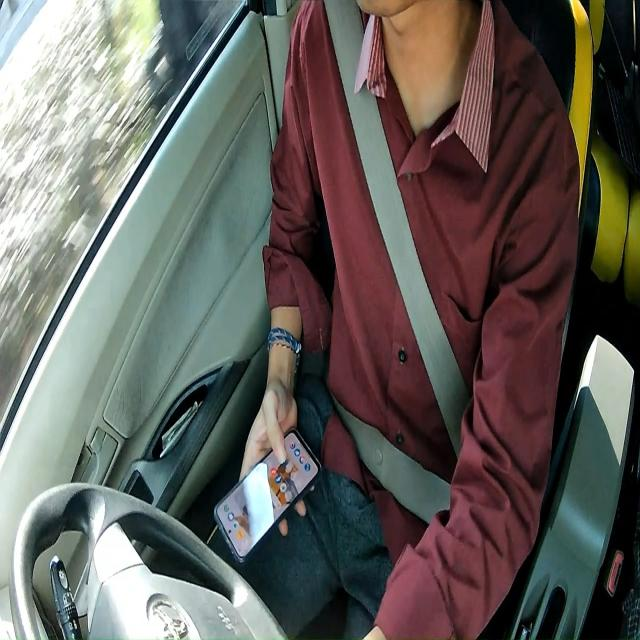phone: (213, 424, 323, 568)
